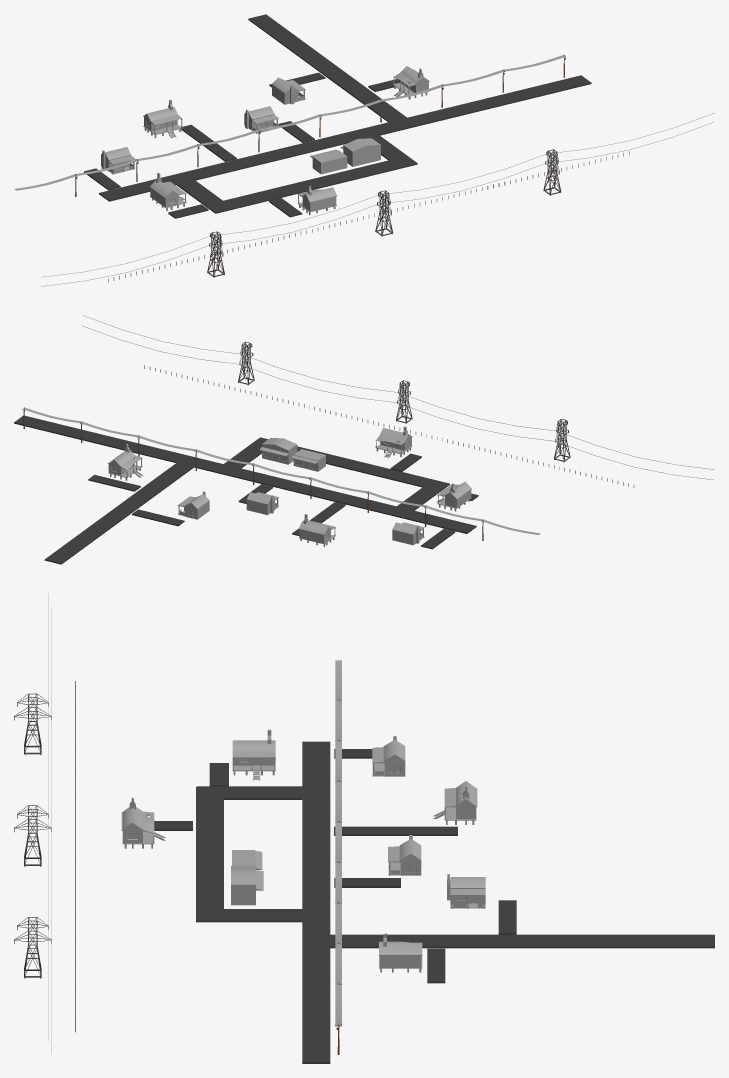
The model's file is Area_02_WIP.fbx.
3 views of the same model, one above another, from view 1: azimuth 30°, elevation 25°; view 2: azimuth 150°, elevation 25°; view 3: azimuth 270°, elevation 25° (orthographic). The views are drawn at different scales.
Parts seen in each view (by area): view 1: pCube5, pCube10, pCube7, Background_36:House_Type_1, Shop_01, Background_40:House_Type_1, Background_39:Deformed_House_Type_1, Background_34:Deformed_House_Type_1, pCube9, Shop_02, House_Type_3, House_Type_2 (+7 smaller); view 2: pCube5, pCube10, pCube7, Background_39:Deformed_House_Type_1, Shop_01, Background_34:Deformed_House_Type_1, Background_36:House_Type_1, Background_40:House_Type_1, pCube9, pCube8, House_Type_2, House_Type_3 (+6 smaller); view 3: pCube5, pCube10, pCube7, Background_40:House_Type_1, pCube8, pCube9, Background_39:Deformed_House_Type_1, Background_36:House_Type_1, Background_34:Deformed_House_Type_1, House_Type_2, pCube15, Shop_01 (+5 smaller).
Boxes of the visible parts, x1,y1,x2,y2 form: pCube5: [99, 75, 591, 201]; pCube10: [248, 14, 406, 122]; pCube7: [208, 156, 417, 213]; Background_36:House_Type_1: [143, 99, 182, 138]; Shop_01: [340, 138, 380, 166]; Background_40:House_Type_1: [149, 172, 186, 210]; Background_39:Deformed_House_Type_1: [298, 185, 337, 215]; Background_34:Deformed_House_Type_1: [393, 66, 429, 99]; pCube9: [175, 174, 225, 212]; Shop_02: [310, 149, 347, 174]; House_Type_3: [244, 106, 278, 133]; House_Type_2: [272, 77, 305, 104]; pCube5: [14, 415, 476, 533]; pCube10: [44, 461, 194, 564]; pCube7: [251, 437, 449, 490]; Background_39:Deformed_House_Type_1: [375, 426, 412, 458]; Shop_01: [259, 438, 297, 464]; Background_34:Deformed_House_Type_1: [107, 444, 143, 480]; Background_36:House_Type_1: [298, 514, 335, 546]; Background_40:House_Type_1: [436, 481, 471, 511]; pCube9: [389, 480, 449, 515]; pCube8: [216, 438, 267, 473]; House_Type_2: [177, 491, 209, 519]; House_Type_3: [246, 492, 278, 515]; pCube5: [302, 741, 330, 1063]; pCube10: [323, 934, 714, 948]; pCube7: [196, 786, 223, 922]; Background_40:House_Type_1: [232, 729, 275, 780]; pCube8: [197, 909, 324, 922]; pCube9: [197, 786, 324, 799]; Background_39:Deformed_House_Type_1: [121, 797, 165, 848]; Background_36:House_Type_1: [433, 781, 477, 824]; Background_34:Deformed_House_Type_1: [379, 933, 422, 972]; House_Type_2: [447, 874, 485, 908]; pCube15: [334, 826, 457, 835]; Shop_01: [231, 866, 263, 905].
Size of the model in its own units: 236 by 13.81 by 156.
